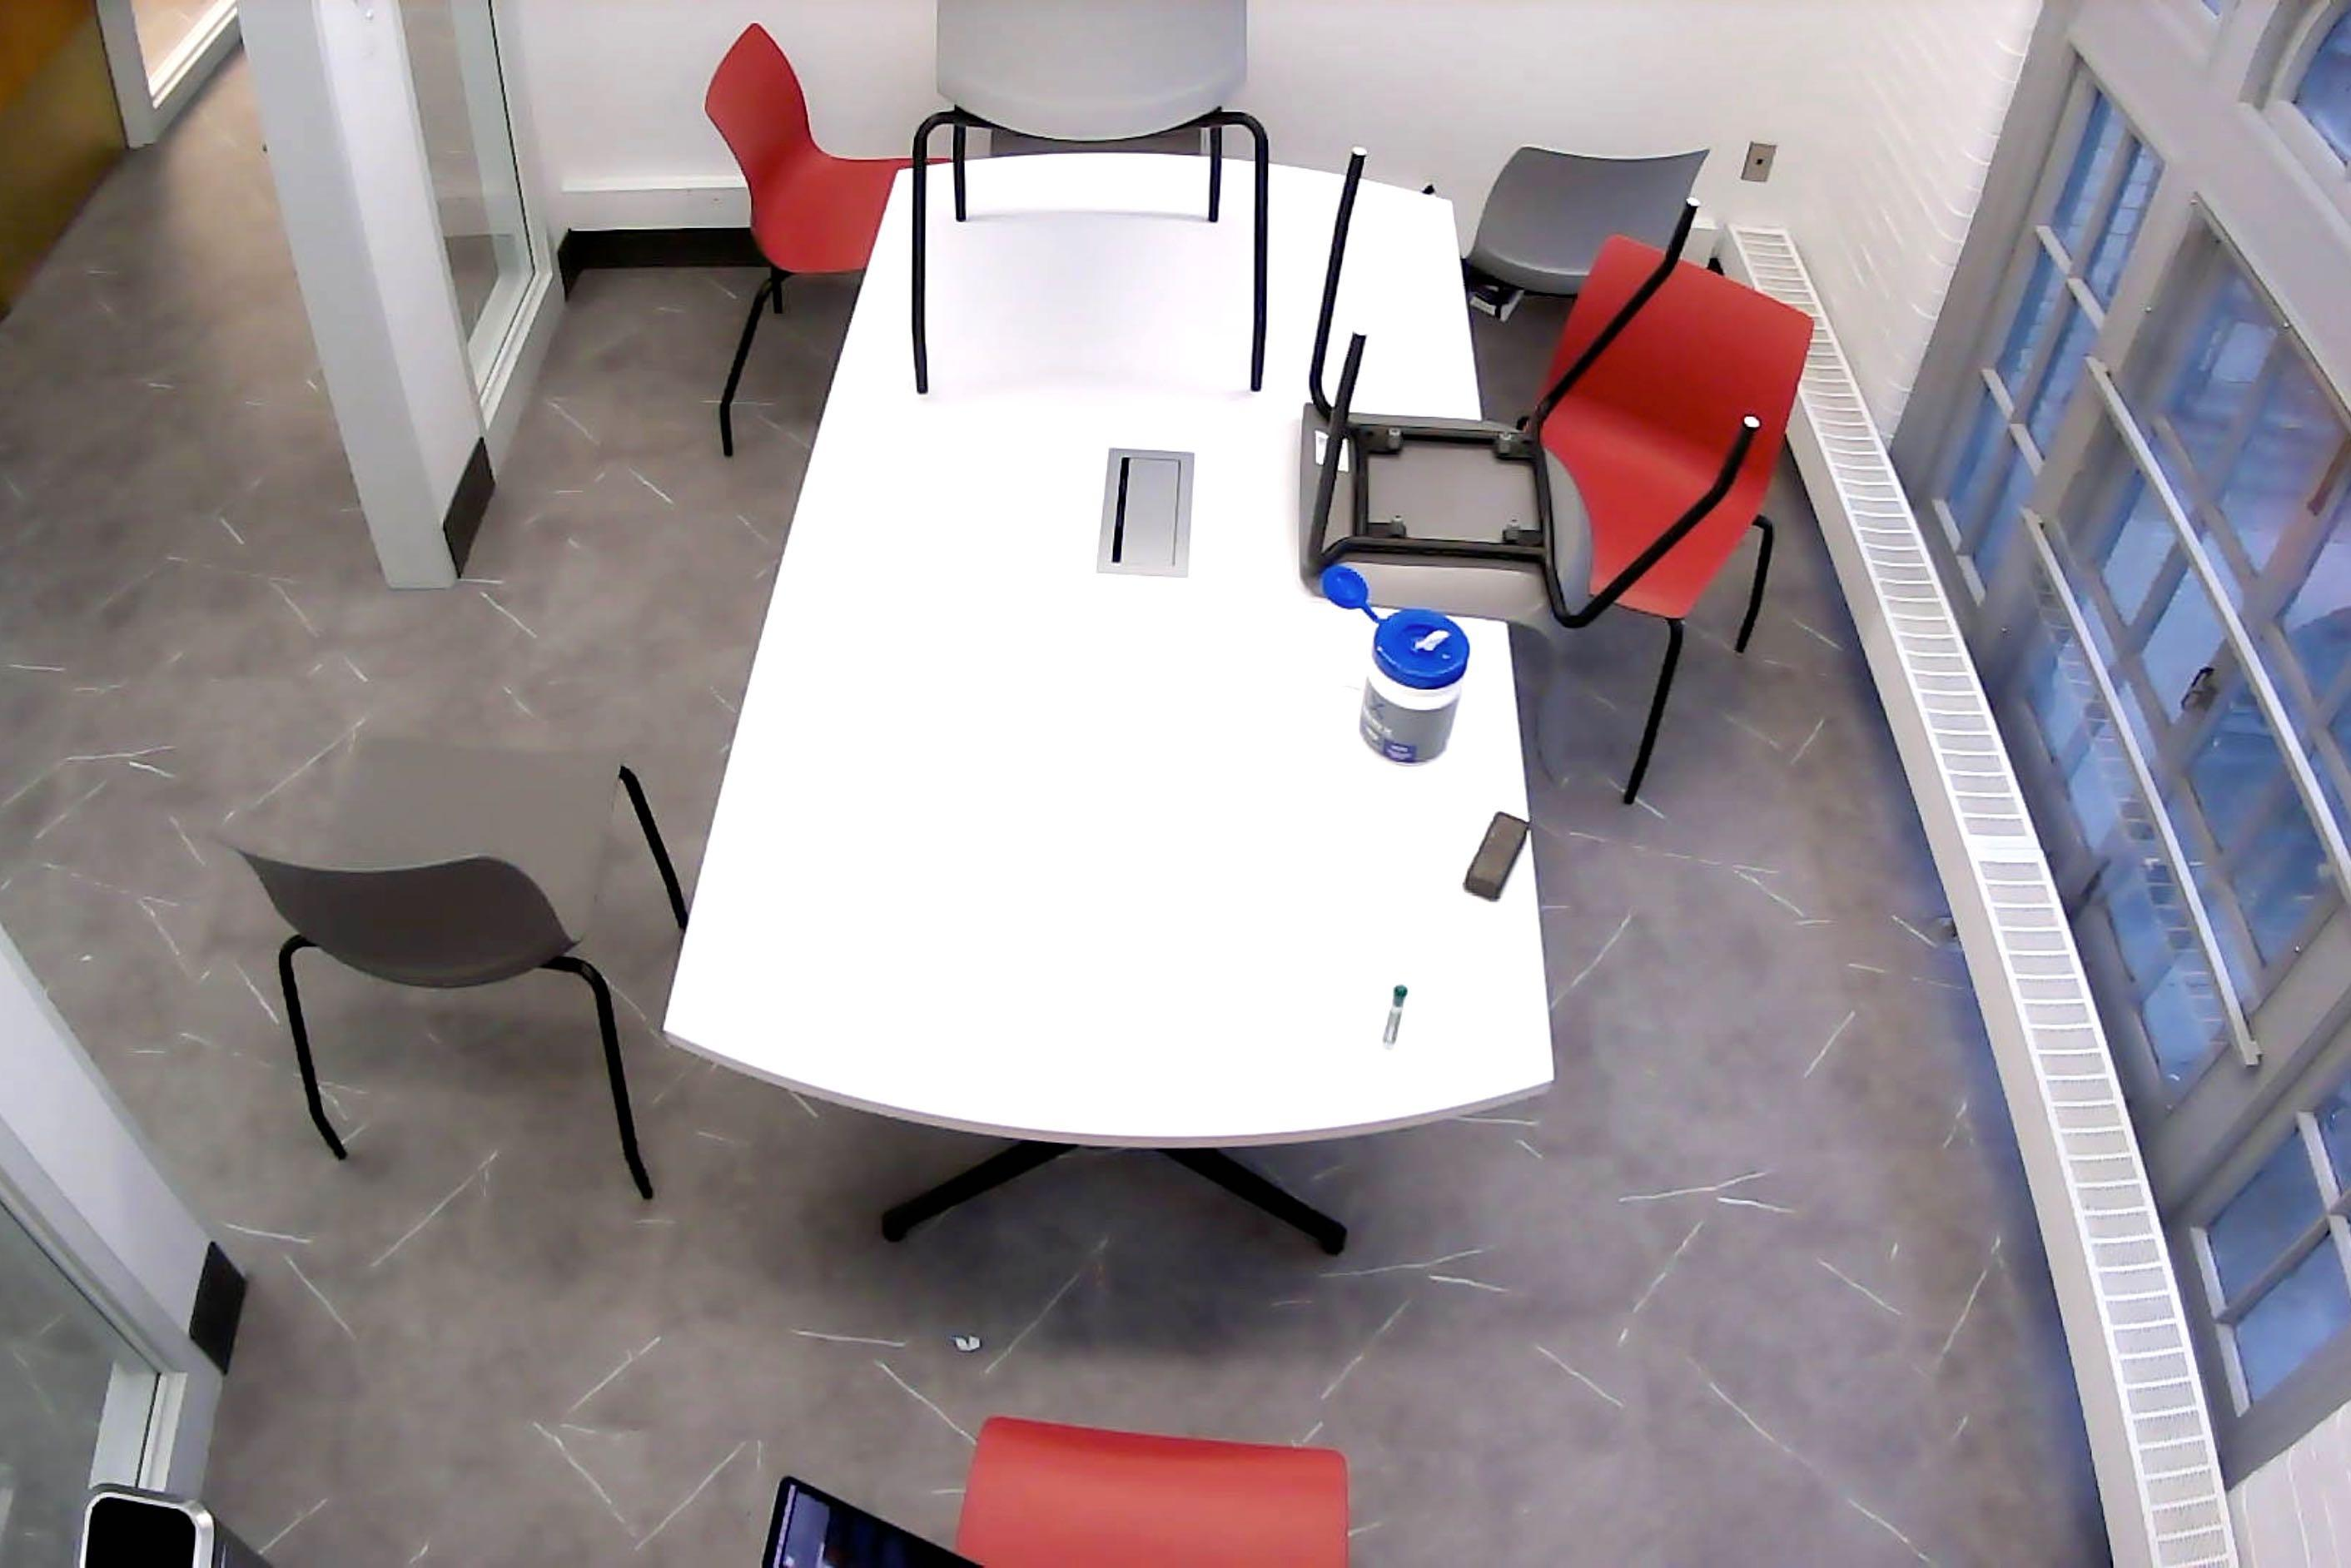Chair: (1306, 143, 1759, 791), (215, 725, 691, 1208), (1530, 235, 1817, 803), (910, 0, 1278, 392), (705, 21, 947, 452), (966, 1412, 1351, 1568), (1425, 147, 1707, 289), (987, 119, 1210, 163)
Dining Table: (663, 152, 1561, 1251)
